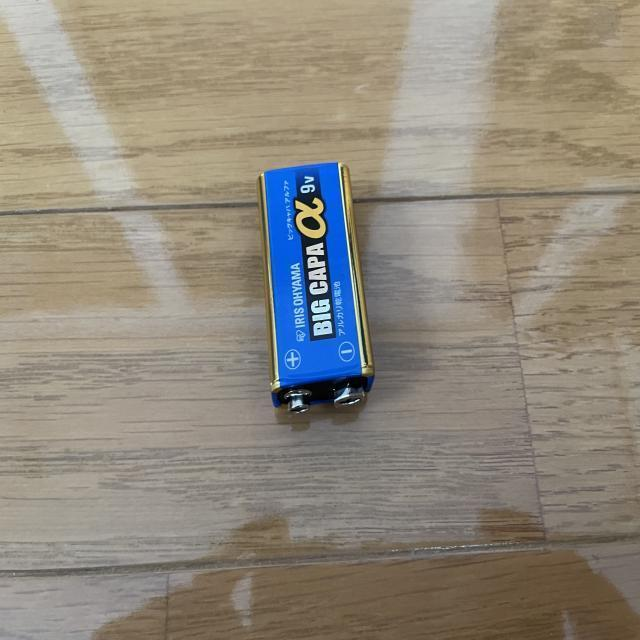9V: (256, 162, 376, 416)
